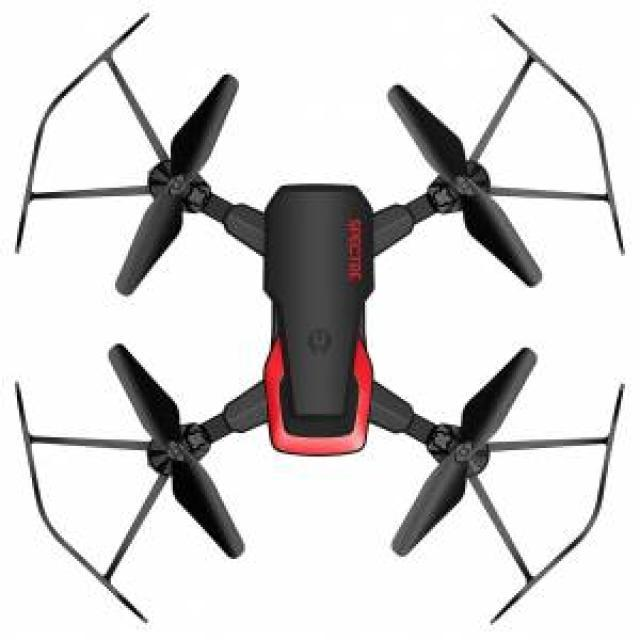drone: (11, 24, 634, 634)
